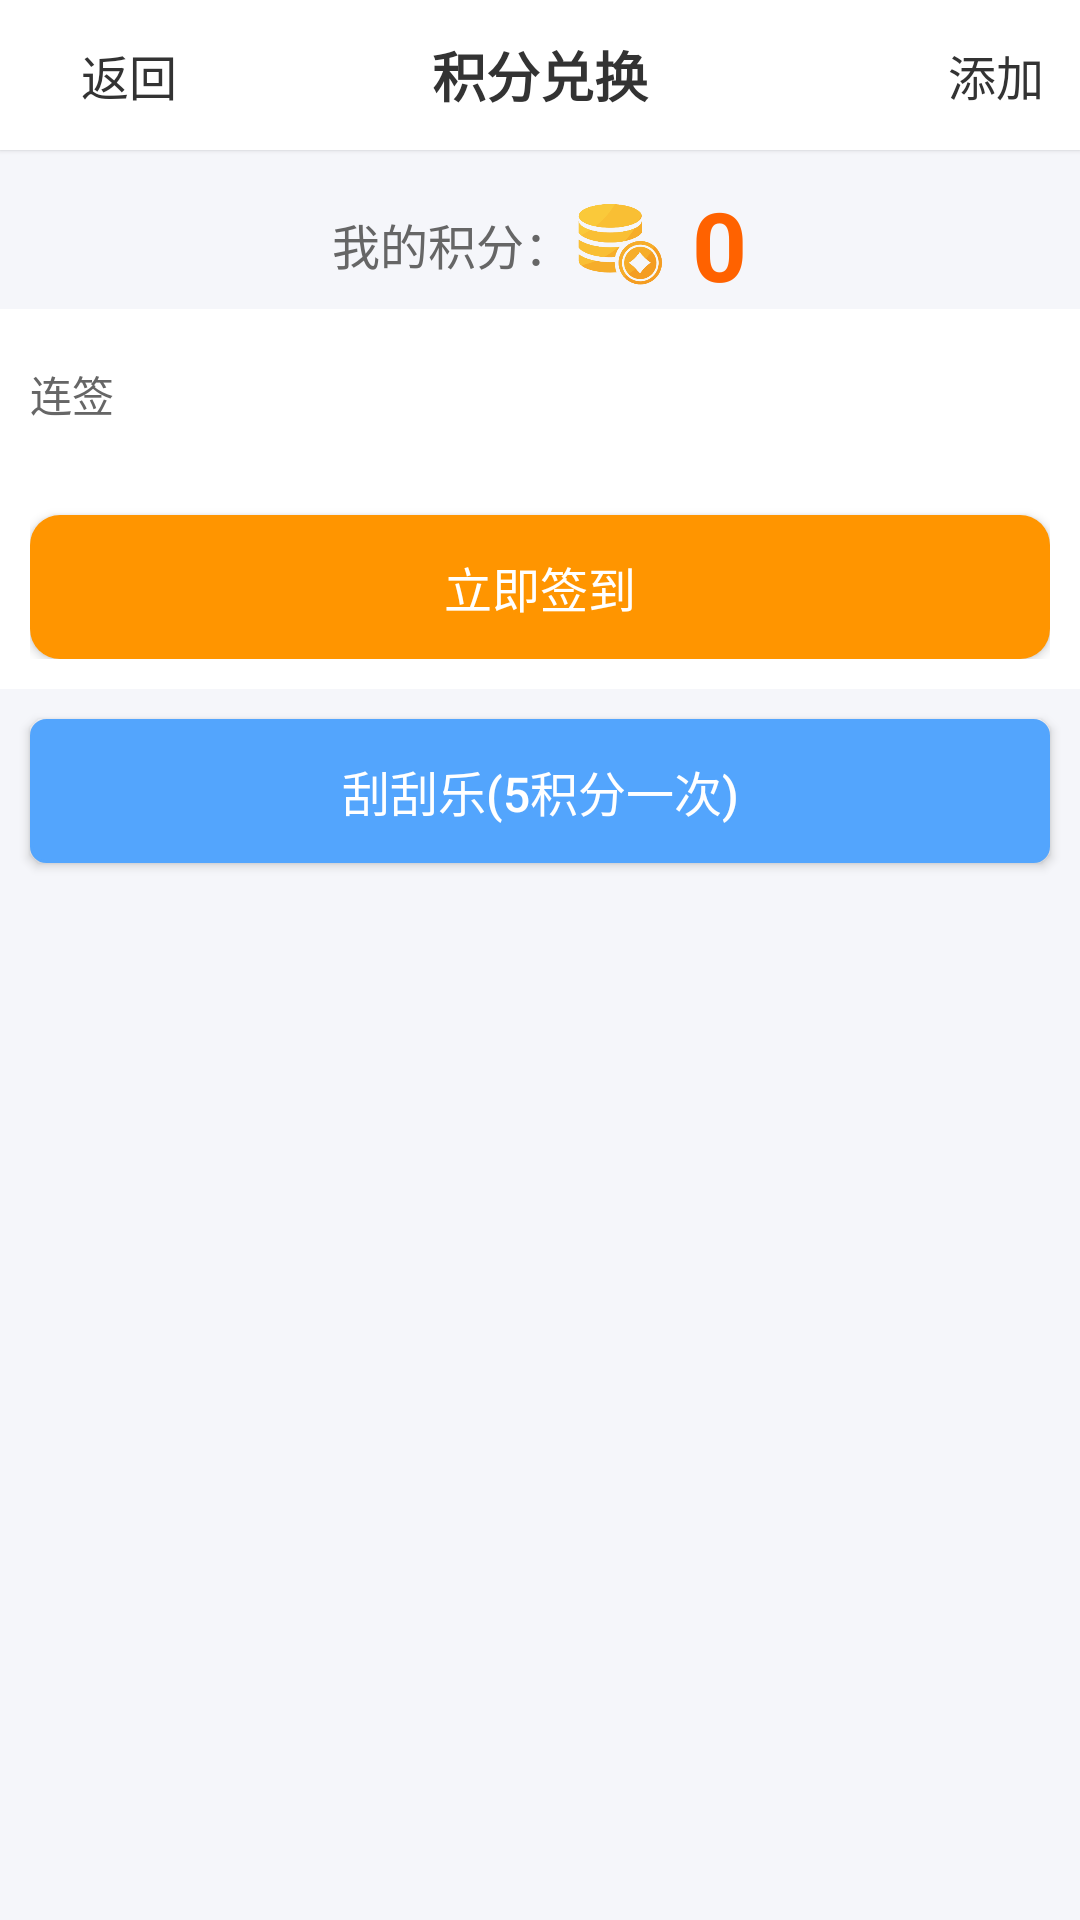

Where to tap for icons on this 1080×1920 app screen, as (x,y):
points: (620,244)
